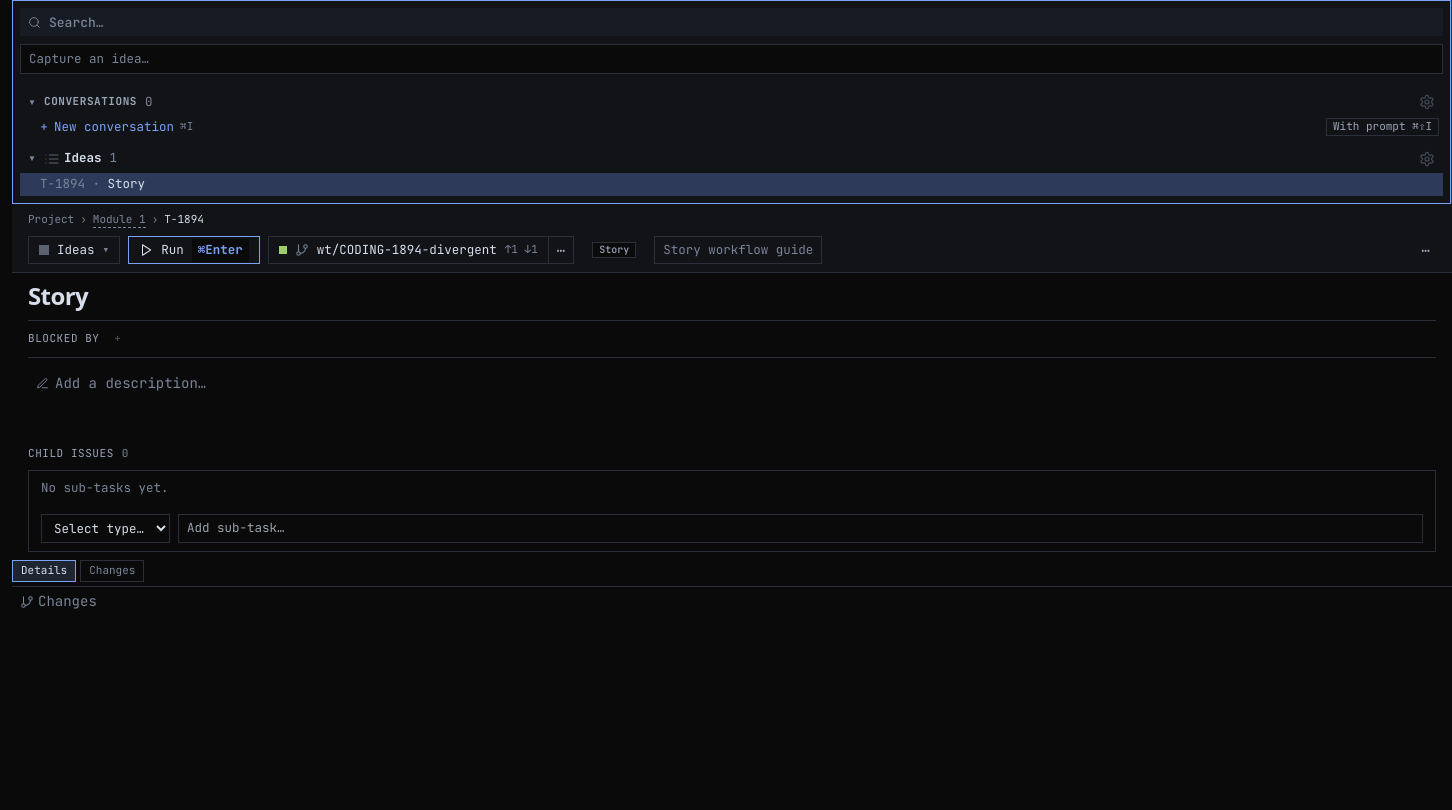
Test: overhaul acceptance - divergent local merge recovery › [overhaul-319] aborts only the matching merge and preserves recovery controls after refusal
The image size is (1452, 810).
Click the tab "Changes".
click(112, 571)  # box [80,560,144,582]
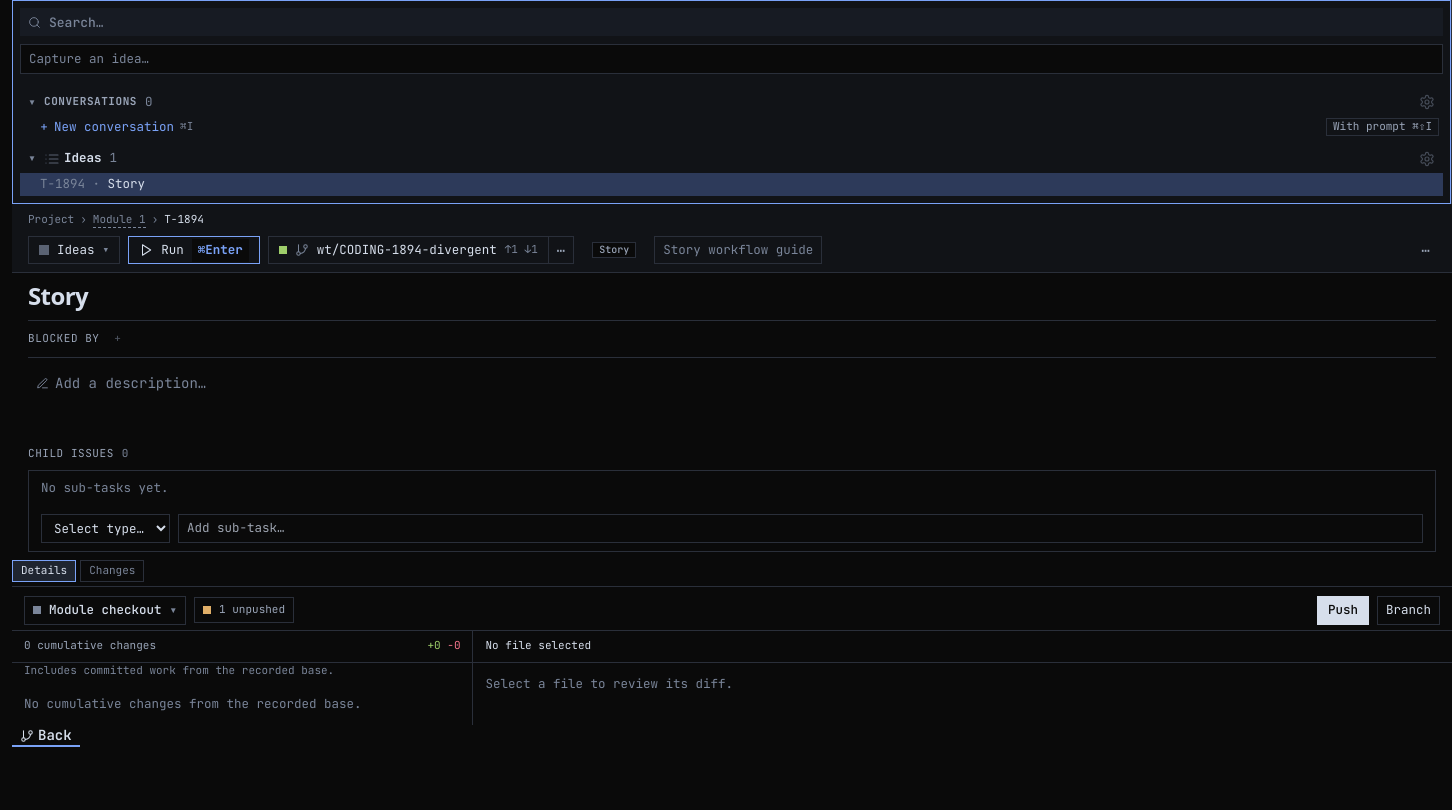
Click the button "Branch".
click(1408, 610)  # box [1377,596,1440,625]
(page scrolled)
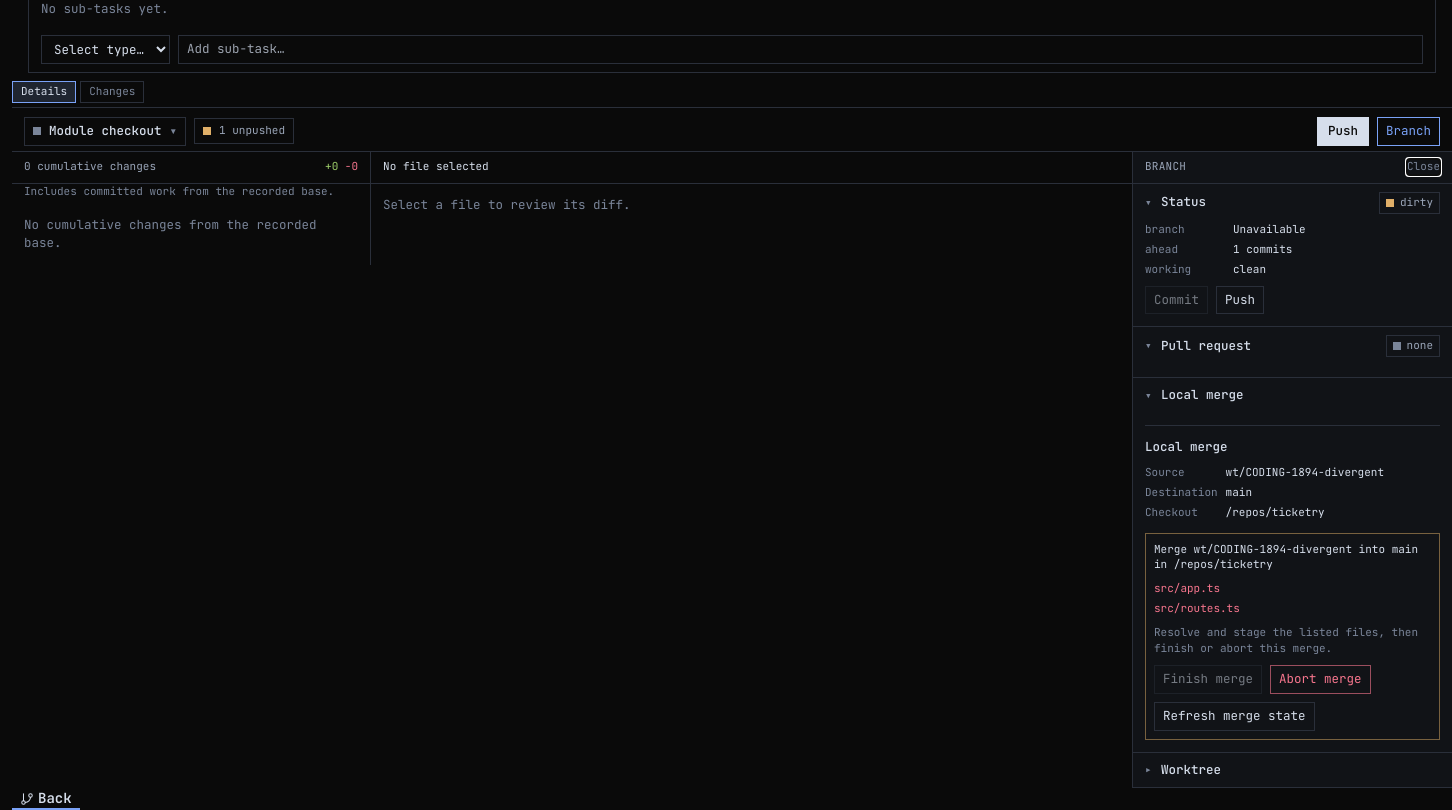
Click the button "Abort merge".
click(1320, 680)  # box [1270,665,1370,694]
(page scrolled)
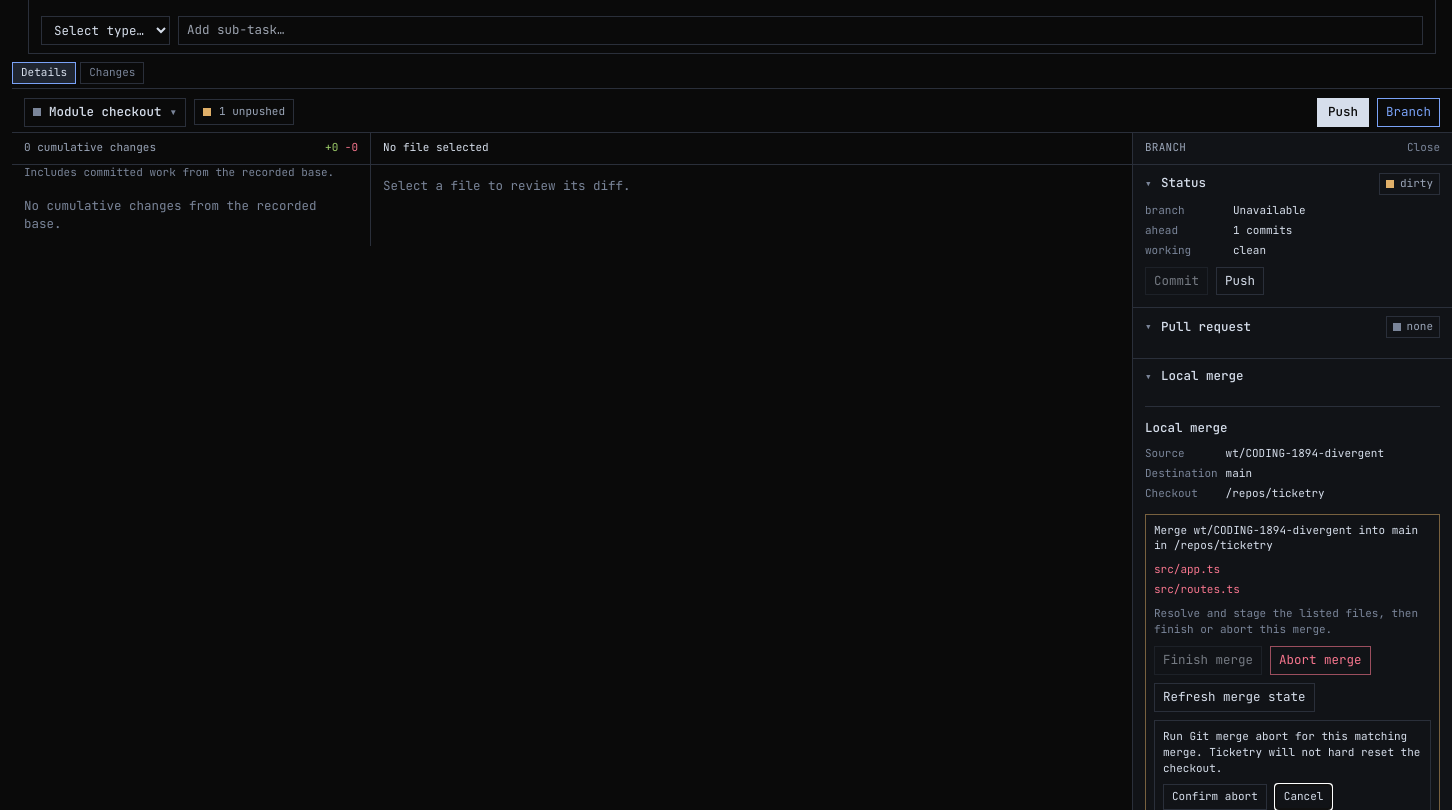
Click the button "Confirm abort".
click(1215, 797)  # box [1163,784,1267,809]
(page scrolled)
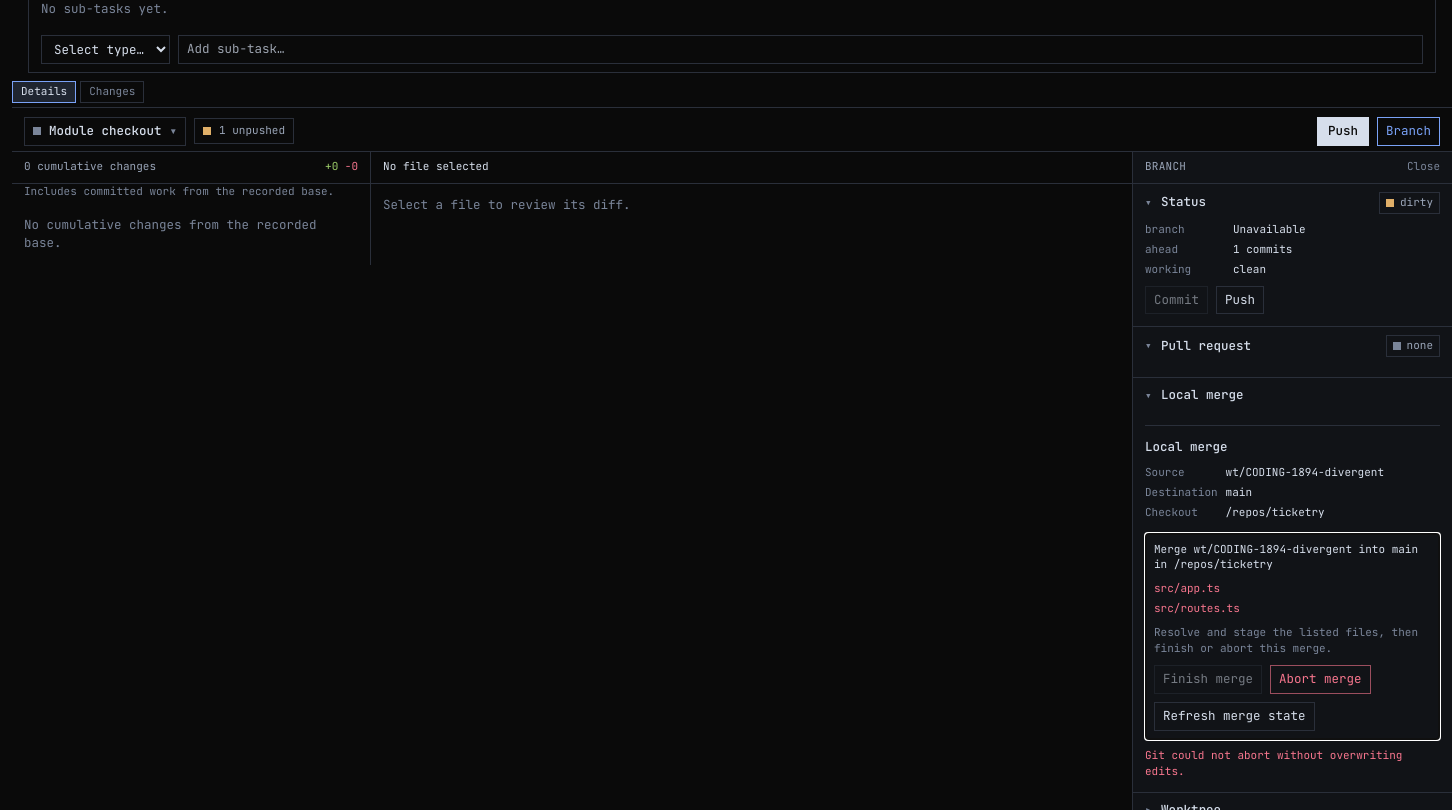
Now the button "Abort merge" is enabled
Now the message reads "Git could not abort without overwriting edits.", box [1145,748,1402,778]
Click the button "Abort merge".
click(1320, 680)  # box [1270,665,1370,694]
(page scrolled)
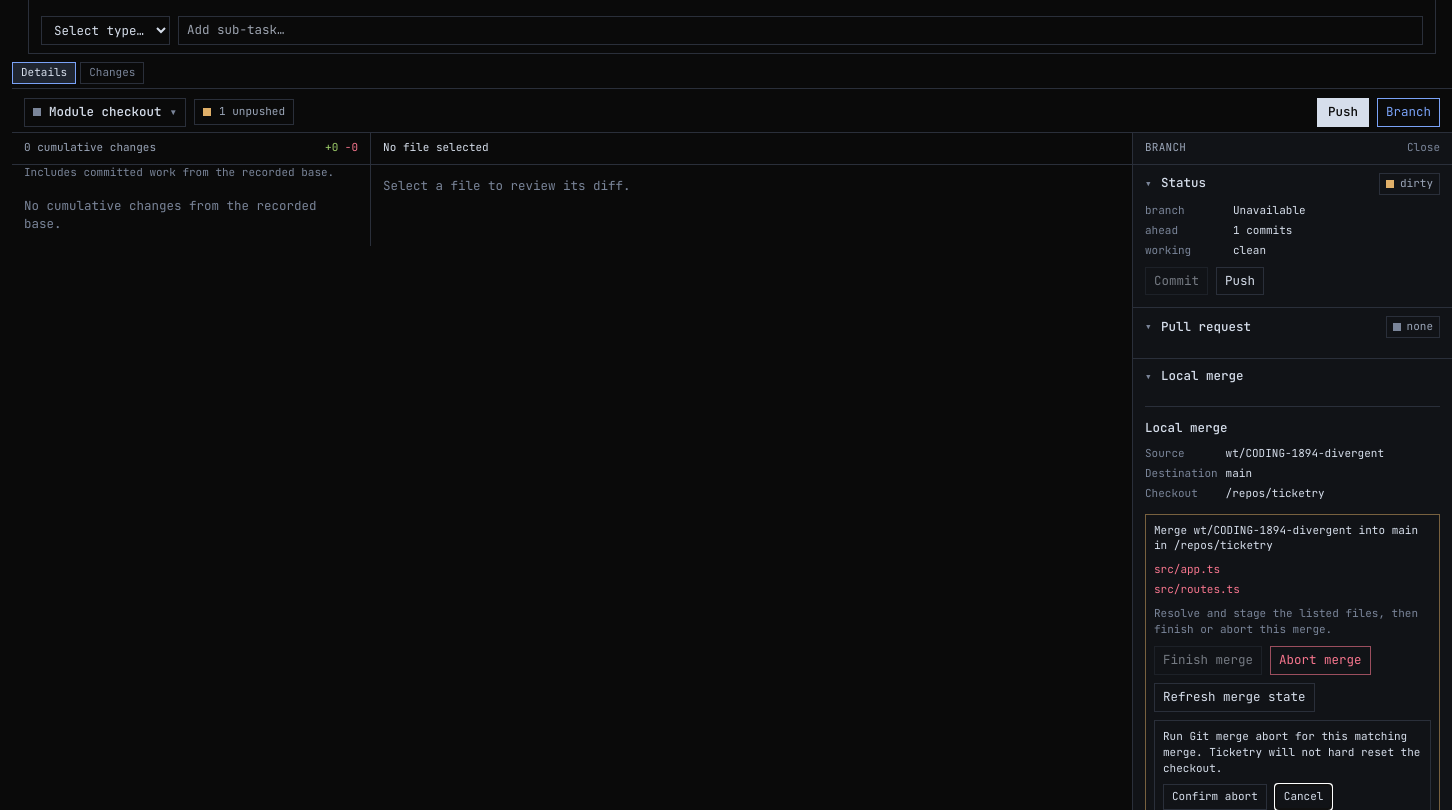
Click the button "Confirm abort".
click(1215, 797)  # box [1163,784,1267,809]
(page scrolled)
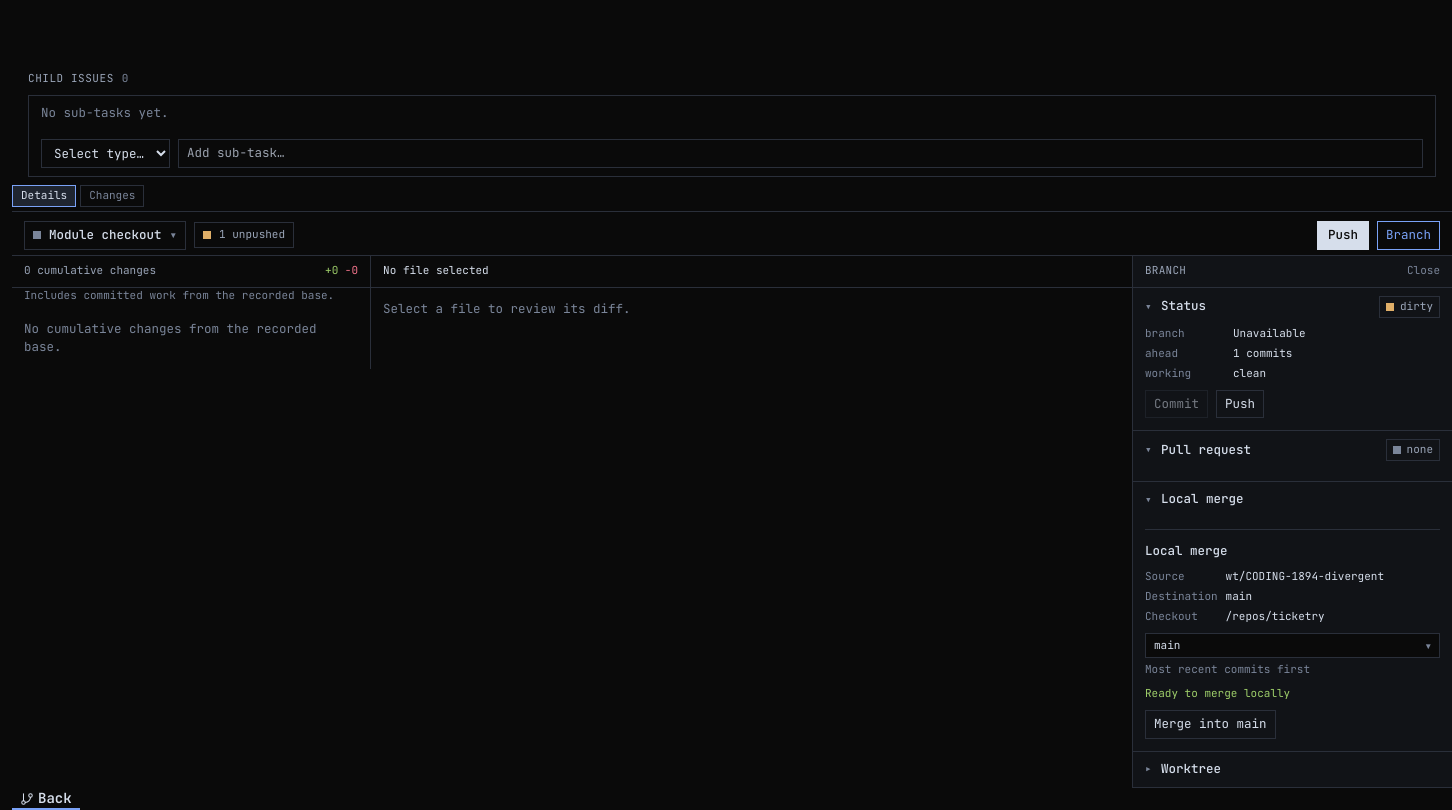
Now the button "Merge into main" is shown, box [1145,710,1276,739]
